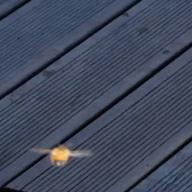Bee: (23, 139, 98, 171)
